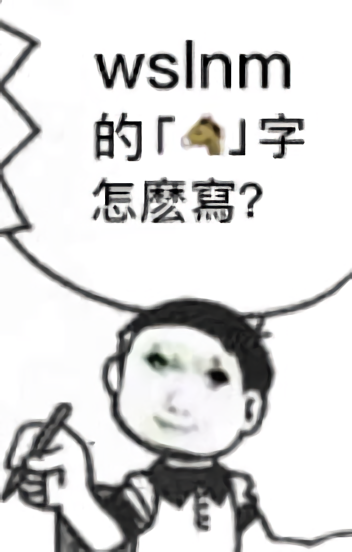dragon: (140, 344, 233, 437)
